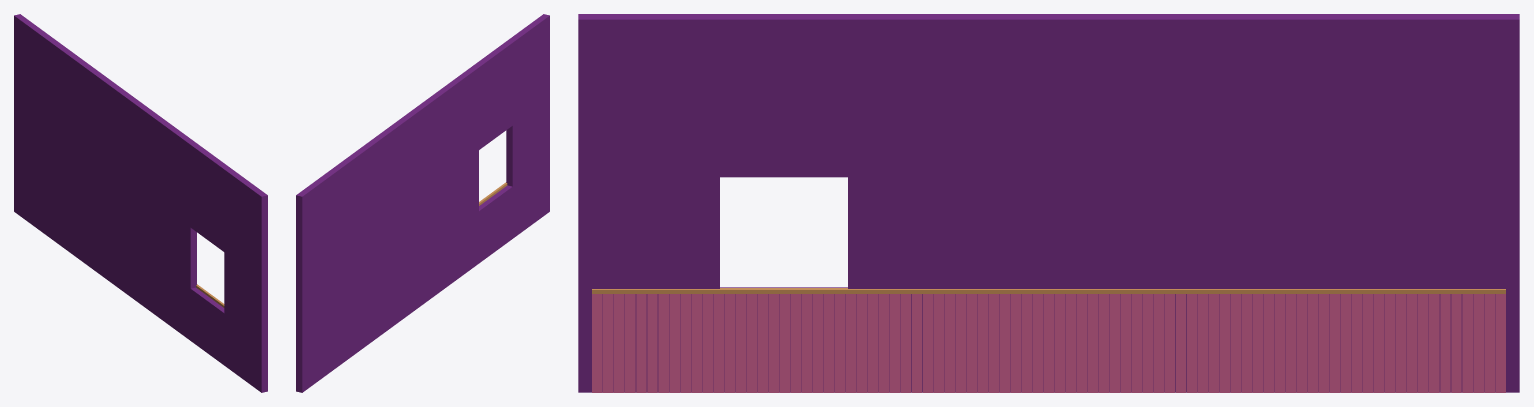
3 views of the same model, side by side, from view 1: azimuth 30°, elevation 25°; view 2: azimuth 150°, elevation 25°; view 3: azimuth 270°, elevation 25° (orthographic). The views are drawn at different scales.
Visible parts, largest first — view 1: wall_l_b, wall_l_a, wall_l_head, wall_l_sill; view 2: wall_l_b, wall_l_a, wall_l_head, wall_l_sill; view 3: wall_l_b, wall_l_a, wall_l_head, left_rail_0, wall_l_sill, left_board_0_30, left_board_0_31, left_board_0_32, left_board_0_33, left_board_0_34, left_board_0_35, left_board_0_36 (+76 smaller).
Boxes of the visible parts, <box> form: wall_l_b: <box>14,14,196,340</box>; wall_l_a: <box>224,168,267,392</box>; wall_l_head: <box>190,143,229,251</box>; wall_l_sill: <box>190,287,224,365</box>; wall_l_b: <box>296,66,478,392</box>; wall_l_a: <box>506,14,549,238</box>; wall_l_head: <box>473,41,512,149</box>; wall_l_sill: <box>479,185,512,263</box>; wall_l_b: <box>848,14,1519,392</box>; wall_l_a: <box>578,14,719,392</box>; wall_l_head: <box>720,14,847,177</box>; left_rail_0: <box>592,288,1505,293</box>; wall_l_sill: <box>720,287,847,392</box>; left_board_0_30: <box>922,294,933,392</box>; left_board_0_31: <box>933,294,944,392</box>; left_board_0_32: <box>944,294,955,392</box>; left_board_0_33: <box>955,294,966,392</box>; left_board_0_34: <box>966,294,977,392</box>; left_board_0_35: <box>977,294,988,392</box>; left_board_0_36: <box>988,294,999,392</box>.
Bounding box in the file's own units: 0.175 × 4.5 × 10.3.
